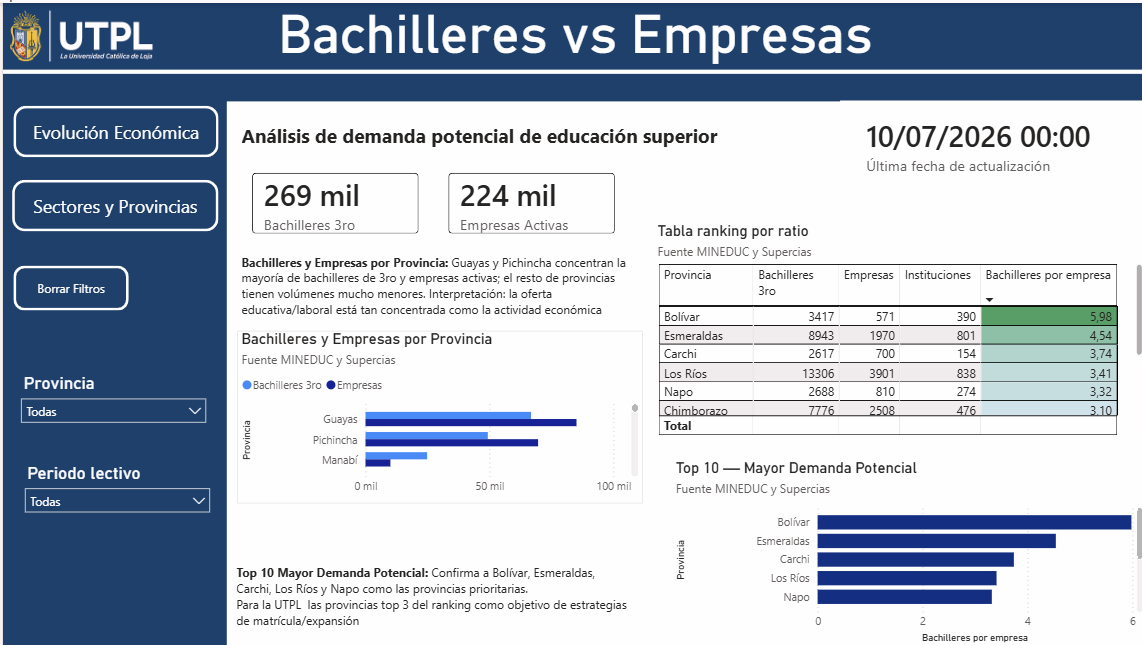

The dashboard page shown, as its layout file describes it:
{"tool":"powerbi","page":{"name":"Bachilleres vs Empresas","canvas":[1280,720],"ordinal":2},"visuals":[{"type":"shape","title":"Bachilleres vs Empresas","box":[0,0,1280.1,109.9],"z":0},{"type":"shape","box":[0,109.7,249.9,609.6],"z":1000},{"type":"actionButton","box":[11,115.4,229.6,57.7],"z":2000},{"type":"actionButton","box":[9.8,197.7,230.8,57.7],"z":3000},{"type":"image","box":[0,0,179.8,74.7],"z":4000},{"type":"textbox","box":[261.8,127.3,545,45.8],"z":5000},{"type":"slicer","fields":{"Values":["public gold_bachilleres_vs_empresas.provincia"]},"box":[9.7,408.5,226.9,100.5],"z":6000},{"type":"cardVisual","fields":{"Data":["public gold_bachilleres_vs_empresas.Medida_Ultima_Actualizacion"]},"box":[936.3,109.3,343.7,100.7],"z":7000},{"type":"actionButton","box":[11,293.4,128.9,50.3],"z":8000},{"type":"cardVisual","fields":{"Data":["public gold_bachilleres_vs_empresas.Medida_Total_Bachilleres"]},"box":[261,173.4,220.5,102.1],"z":9000},{"type":"cardVisual","fields":{"Data":["public gold_bachilleres_vs_empresas.Medida_Total_Empresas"]},"box":[481.4,173.4,220.5,102.1],"z":10000},{"type":"clusteredBarChart","title":"Bachilleres y Empresas por Provincia","fields":{"Category":["public gold_bachilleres_vs_empresas.provincia"],"Y":["Sum(public gold_bachilleres_vs_empresas.total_bachilleres_3ro)","Sum(public gold_bachilleres_vs_empresas.total_empresas_activas)"]},"box":[261.2,293.8,453.8,376.2],"z":11000},{"type":"tableEx","title":"Tabla ranking por ratio","fields":{"Values":["public gold_bachilleres_vs_empresas.provincia","public gold_bachilleres_vs_empresas.total_bachilleres_3ro","public gold_bachilleres_vs_empresas.total_empresas_activas","public gold_bachilleres_vs_empresas.num_instituciones","public gold_bachilleres_vs_empresas.ratio_bachilleres_por_empresa"]},"box":[726.2,245,553.8,242.5],"z":12000},{"type":"clusteredBarChart","title":"Top 10 — Mayor Demanda Potencial","fields":{"Category":["public gold_bachilleres_vs_empresas.provincia"],"Y":["Sum(public gold_bachilleres_vs_empresas.ratio_bachilleres_por_empresa)"]},"box":[746.7,510,533.3,210],"z":13000},{"type":"slicer","fields":{"Values":["public gold_bachilleres_vs_empresas.periodo_lectivo"]},"box":[14.6,509,226.9,100.5],"z":14000}]}

Visuals, with their boxes in screenshot pixels (x1, y1, x2, y2), scaled from the page's 1280x720 canvas onto the 1142x645 screenshot:
"Bachilleres vs Empresas" shape: <region>0, 0, 1141, 98</region>
shape: <region>0, 98, 223, 644</region>
actionButton: <region>10, 103, 215, 155</region>
actionButton: <region>9, 177, 215, 229</region>
image: <region>0, 0, 160, 67</region>
textbox: <region>234, 114, 720, 155</region>
slicer - public gold_bachilleres_vs_empresas.provincia: <region>9, 366, 211, 456</region>
cardVisual - public gold_bachilleres_vs_empresas.Medida_Ultima_Actualizacion: <region>835, 98, 1141, 188</region>
actionButton: <region>10, 263, 125, 308</region>
cardVisual - public gold_bachilleres_vs_empresas.Medida_Total_Bachilleres: <region>233, 155, 430, 247</region>
cardVisual - public gold_bachilleres_vs_empresas.Medida_Total_Empresas: <region>429, 155, 626, 247</region>
"Bachilleres y Empresas por Provincia" clusteredBarChart: <region>233, 263, 638, 600</region>
"Tabla ranking por ratio" tableEx: <region>648, 219, 1141, 437</region>
"Top 10 — Mayor Demanda Potencial" clusteredBarChart: <region>666, 457, 1141, 644</region>
slicer - public gold_bachilleres_vs_empresas.periodo_lectivo: <region>13, 456, 215, 546</region>
